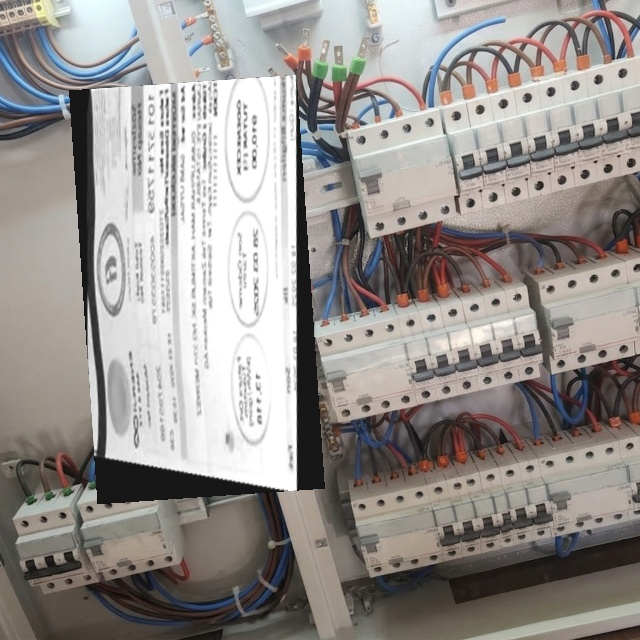electricity-bill: (68, 74, 324, 503)
